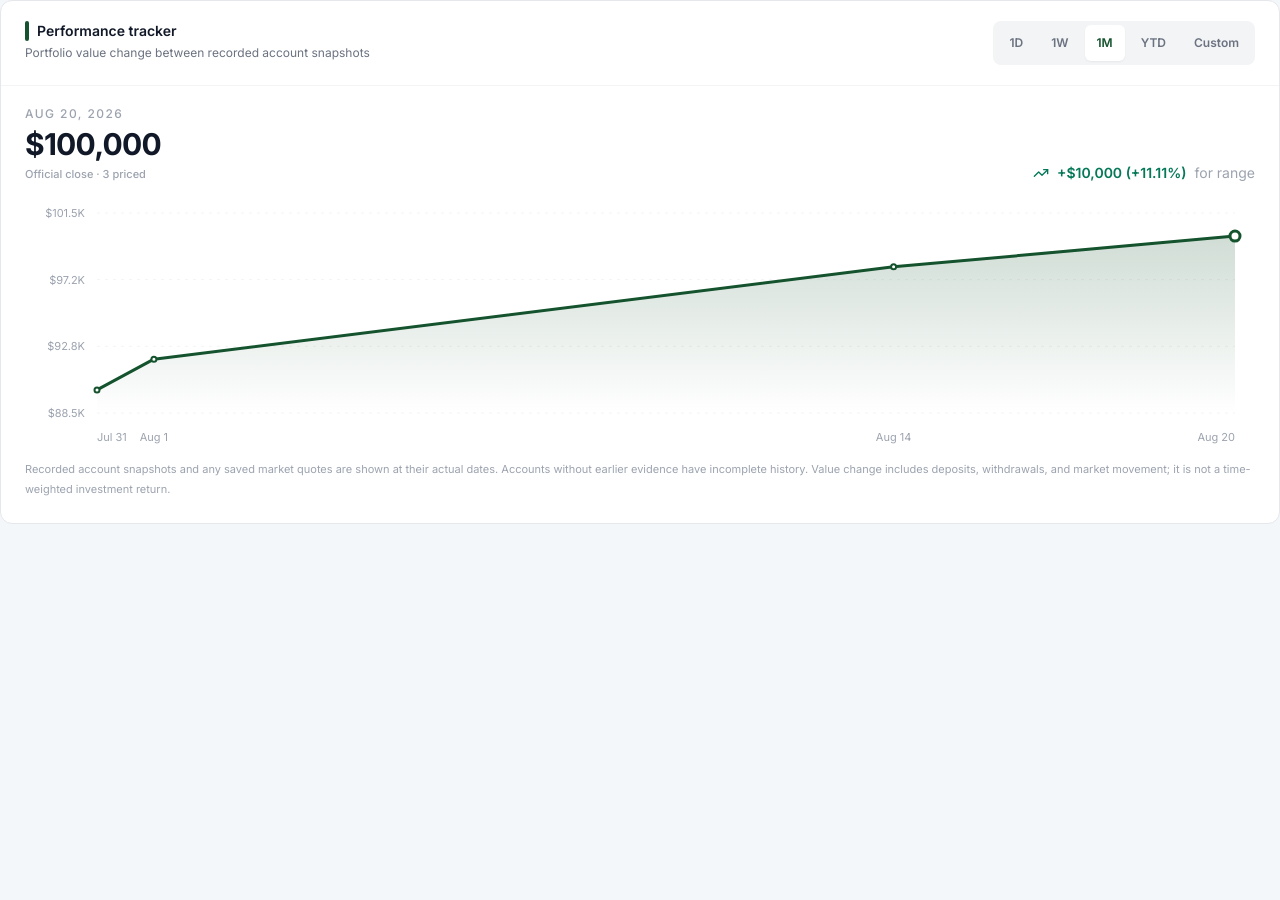
LiquidityPerformanceTracker › shows plotted value change and supports custom date controls
Check: the picture named "portfolio value from" is shown, box [25,194,1255,450]
Check: the text "+$10,000 (+11.11%)" is shown, box [1057,162,1186,182]
Click the button "Custom".
click(1216, 43)  # box [1182,25,1251,61]
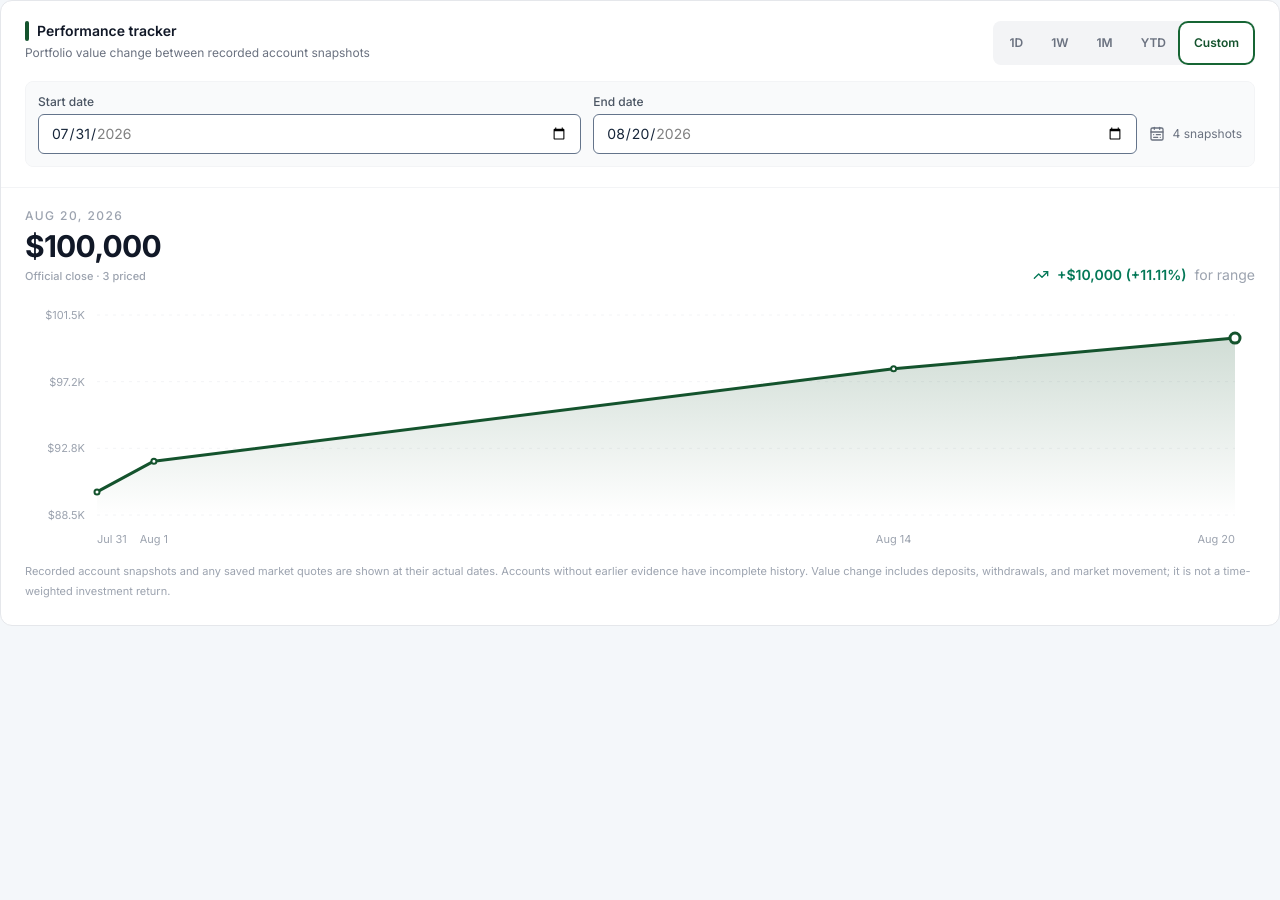
Check: the date field labelled "Start date" holds "2026-07-31", box [38,114,581,154]
Check: the date field labelled "End date" holds "2026-08-20", box [593,114,1137,154]
